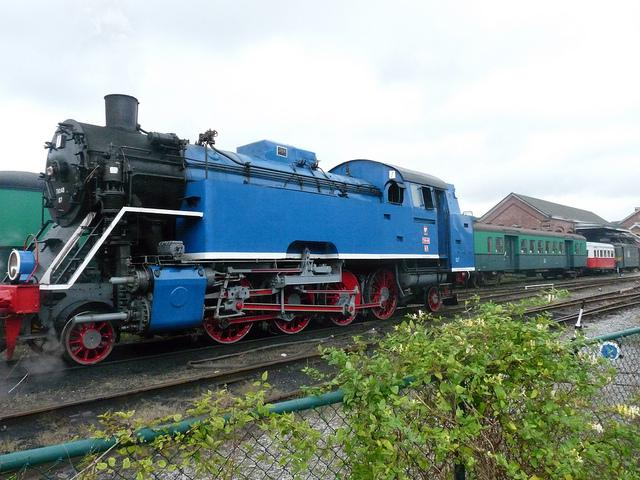Train: (0, 93, 640, 368)
